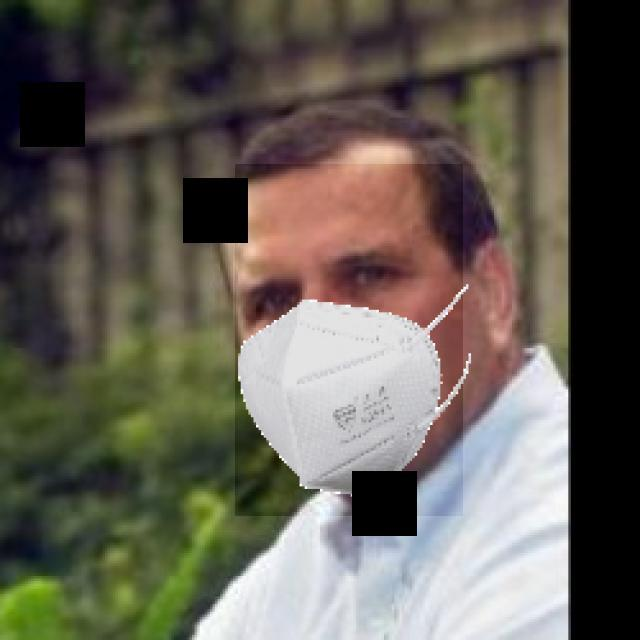kn95: (235, 164, 463, 516)
